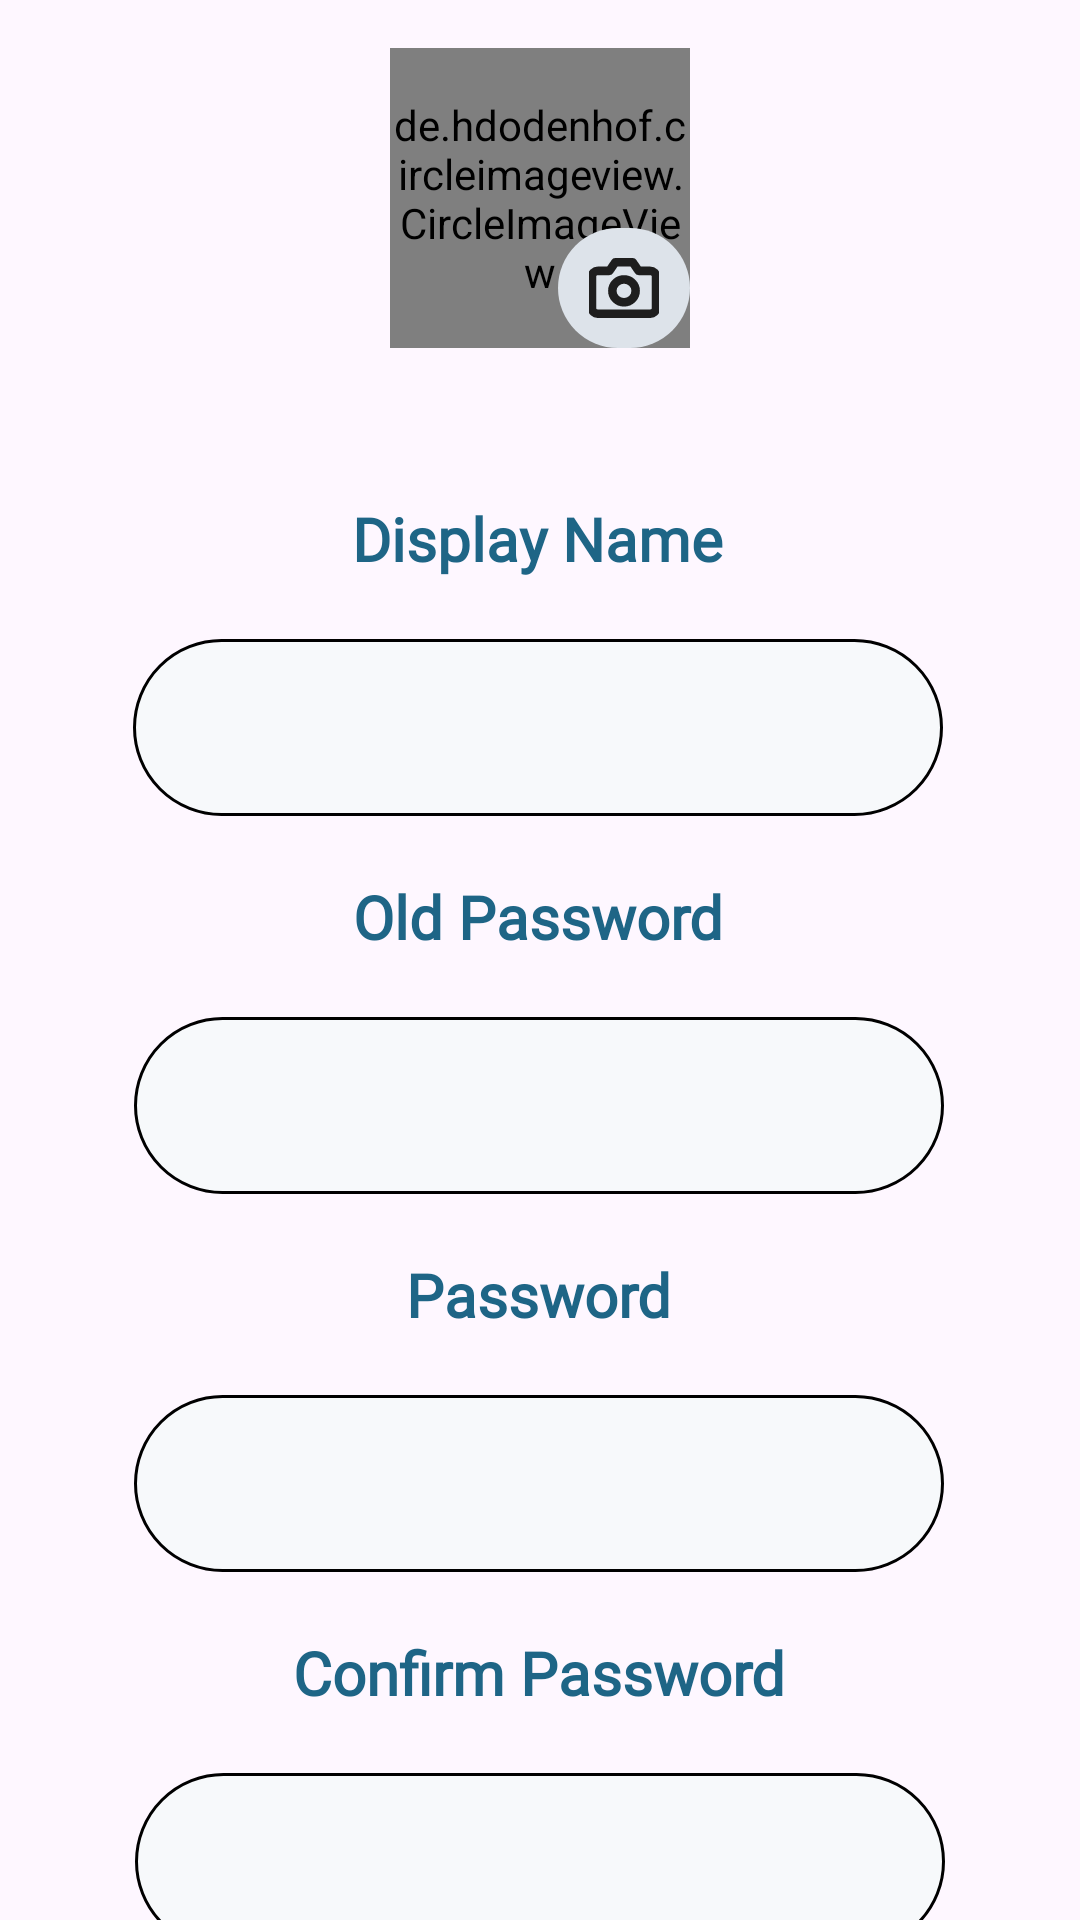

Named icons in this screenshot (1080x1920) and their centers, point (x, y):
camera: point (624, 288)
